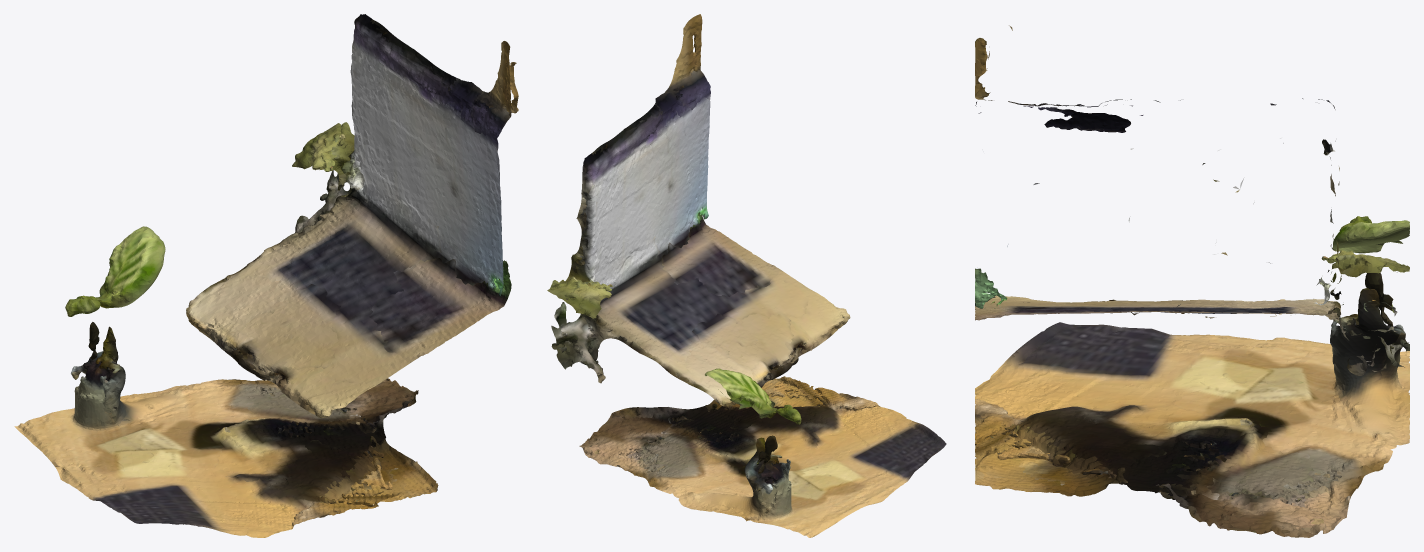
File: laptop.glb
3 renders of one model, left to right at view 1: azimuth 30°, elevation 25°; view 2: azimuth 150°, elevation 25°; view 3: azimuth 270°, elevation 25°, orthographic. The views are drawn at different scales.
Size of the model in its own units: 0.4738 by 0.5718 by 0.4291.
Materials: 1 (1 with a texture image).
